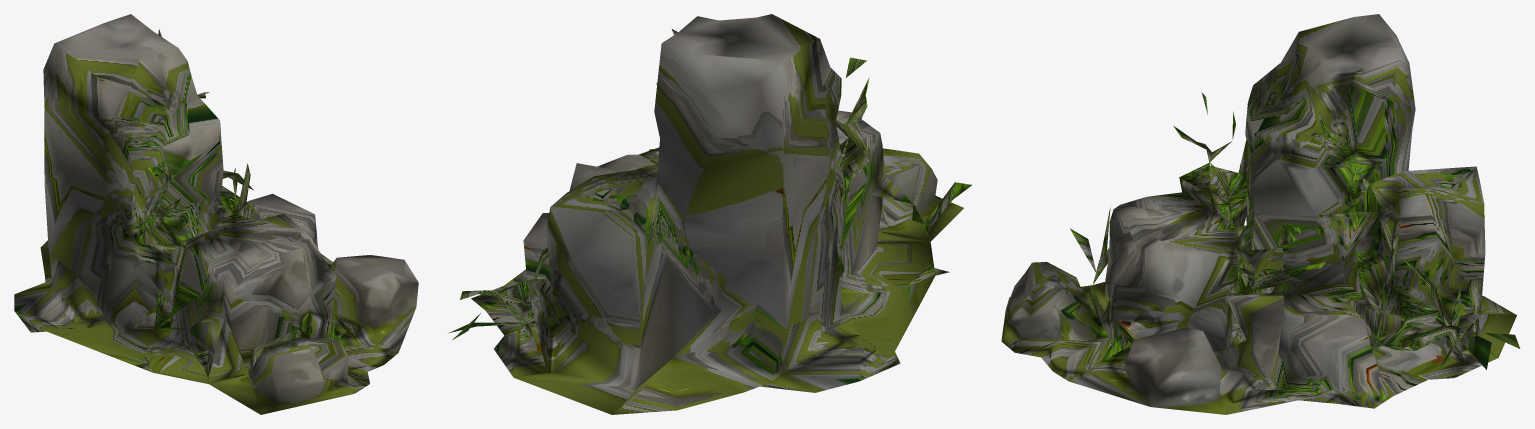
Rendered from rocks-far.glb.
The picture shows the model from 3 angles, left to right: view 1: azimuth 30°, elevation 25°; view 2: azimuth 150°, elevation 25°; view 3: azimuth 270°, elevation 25°; orthographic projection. The views are drawn at different scales.
Visible parts, largest first — view 1: tripo_node_d4e1fe7f-45e2-4c14-a395-72361fbca485; view 2: tripo_node_d4e1fe7f-45e2-4c14-a395-72361fbca485; view 3: tripo_node_d4e1fe7f-45e2-4c14-a395-72361fbca485.
Boxes of the visible parts, x1=… form: tripo_node_d4e1fe7f-45e2-4c14-a395-72361fbca485: x1=14, y1=14, x2=418, y2=414; tripo_node_d4e1fe7f-45e2-4c14-a395-72361fbca485: x1=448, y1=14, x2=971, y2=414; tripo_node_d4e1fe7f-45e2-4c14-a395-72361fbca485: x1=1001, y1=14, x2=1520, y2=414.
Bounding box in the file's own units: 0.7504 × 0.5563 × 0.9796.
1 material, 1 textured.
